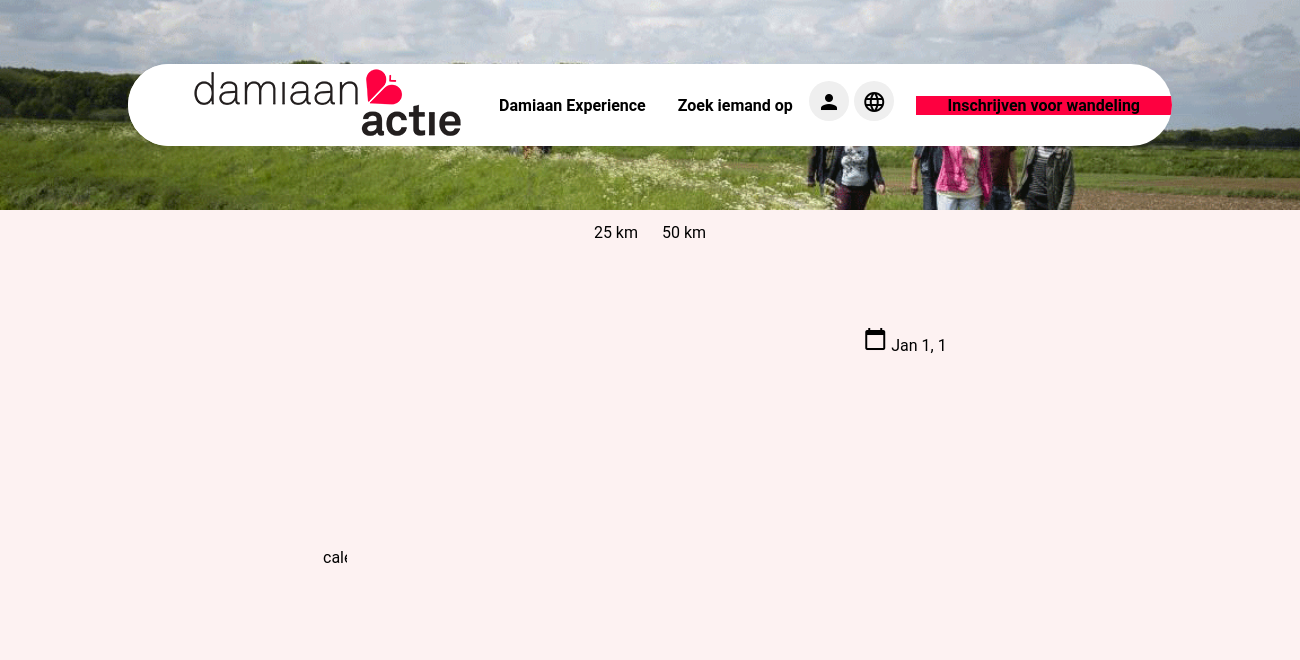
All Routes Displayed › All Routes are correctly displayed
Note: 1 route in 50km
Click the button with test id "registerRouteDistance50" at (684, 233), box top-left (650, 215), bottom-right (718, 251)
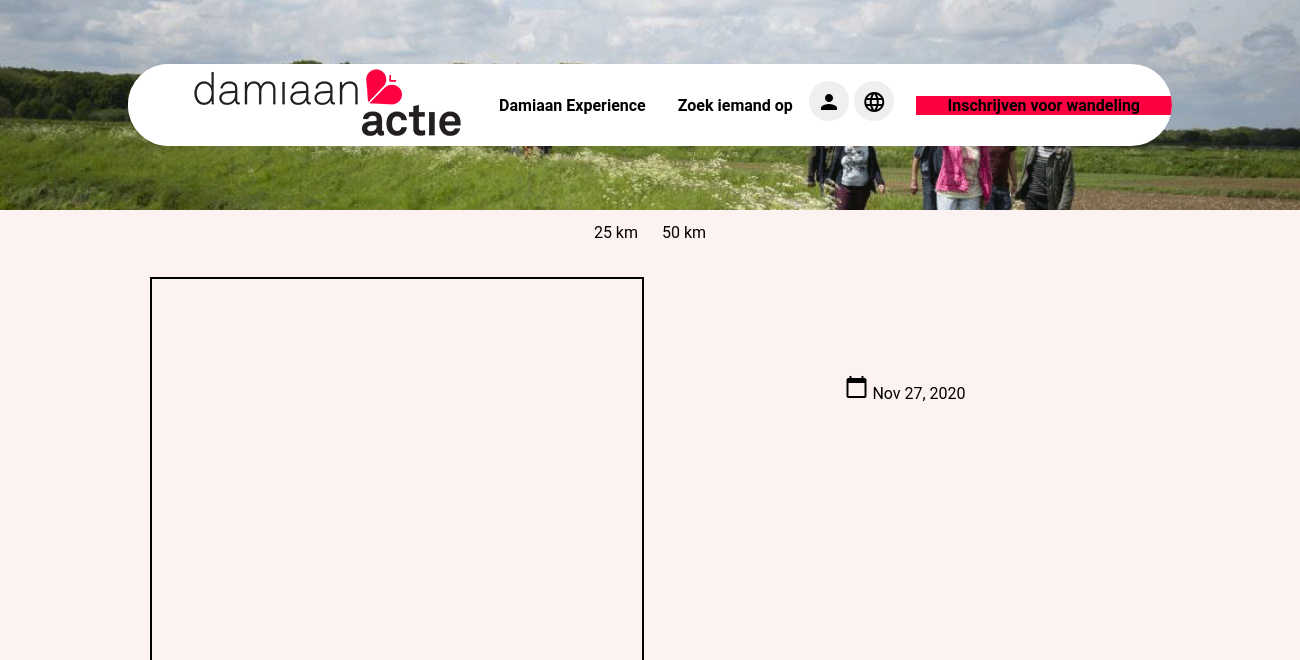
Now the number of elements with test id "registerRouteItem" is 1, box top-left (130, 256), bottom-right (1170, 659)
